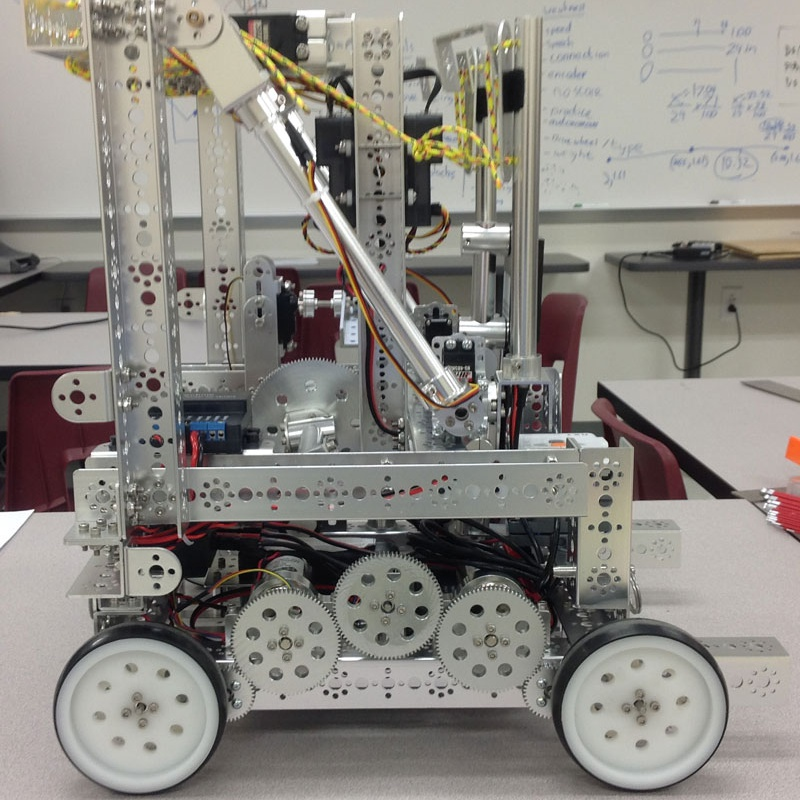robot: (22, 0, 795, 793)
